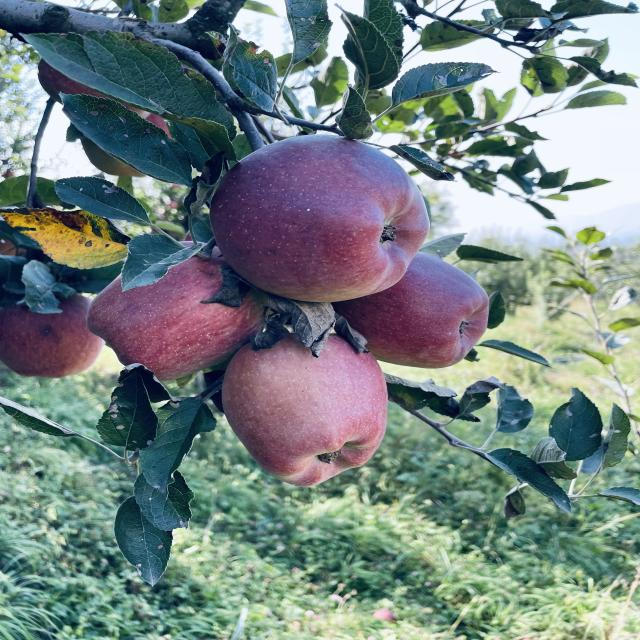Apple: (210, 135, 428, 302), (222, 334, 387, 486), (87, 258, 267, 381), (333, 252, 488, 369), (0, 295, 103, 378)
